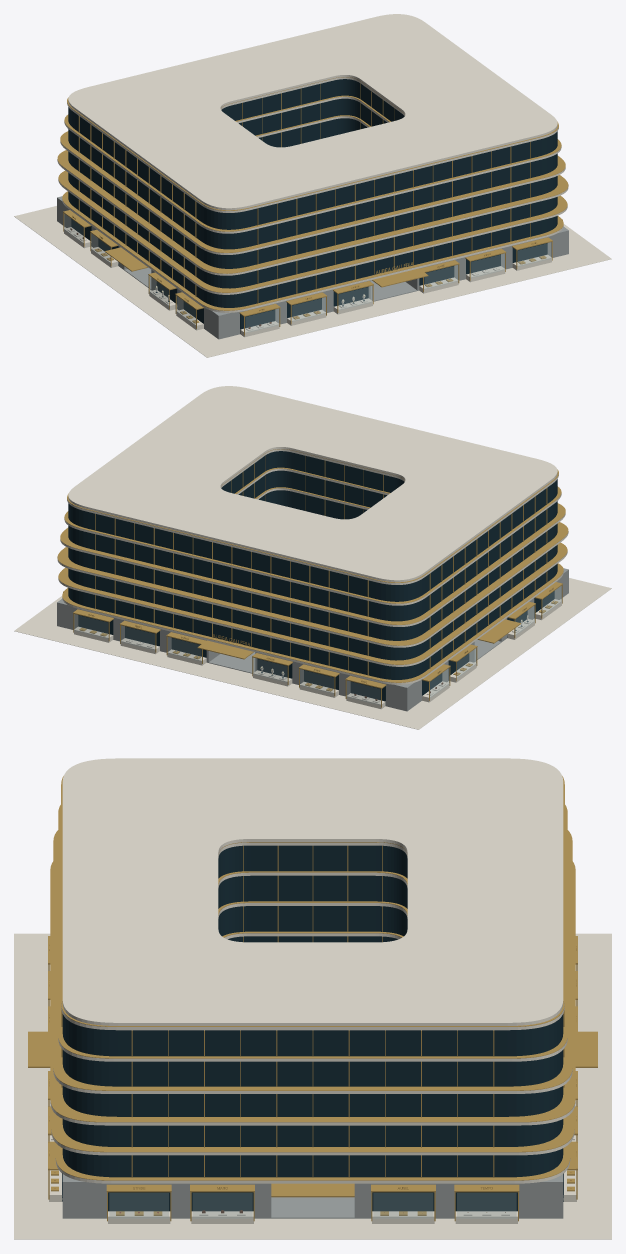
Rendered from mall-lod0.glb.
3 views of the same model, one above another, from view 1: azimuth 30°, elevation 25°; view 2: azimuth 150°, elevation 25°; view 3: azimuth 270°, elevation 25° (orthographic). The views are drawn at different scales.
Parts seen in each view (by area): view 1: mall_ivory, mall_dark, mall_gold, mall_glass, mall_stone; view 2: mall_ivory, mall_dark, mall_gold, mall_glass, mall_stone; view 3: mall_ivory, mall_dark, mall_gold, mall_stone, mall_glass.
Boxes of the visible parts, <box> form: mall_ivory: <box>14,14,611,357</box>; mall_dark: <box>68,79,557,333</box>; mall_gold: <box>57,77,568,335</box>; mall_glass: <box>64,214,550,332</box>; mall_stone: <box>57,196,568,339</box>; mall_ivory: <box>14,386,611,729</box>; mall_dark: <box>68,451,557,705</box>; mall_gold: <box>57,449,568,707</box>; mall_glass: <box>75,586,561,704</box>; mall_stone: <box>57,568,568,711</box>; mall_ivory: <box>14,758,611,1239</box>; mall_dark: <box>62,845,563,1211</box>; mall_gold: <box>28,776,597,1221</box>; mall_stone: <box>62,1174,563,1218</box>; mall_glass: <box>109,1193,516,1218</box>.
Bounding box in the file's own units: 104 × 31.11 × 86.
